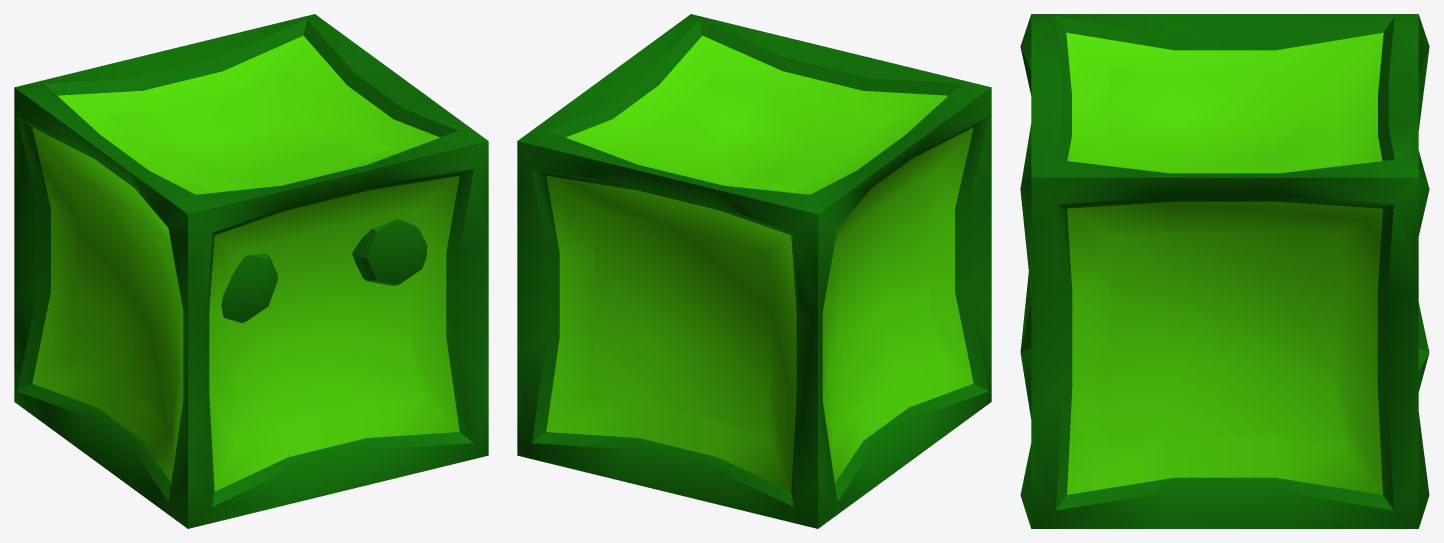
Rendered from enemy slime.fbx.
3 renders of one model, left to right at view 1: azimuth 30°, elevation 25°; view 2: azimuth 150°, elevation 25°; view 3: azimuth 270°, elevation 25°, orthographic. The views are drawn at different scales.
Parts seen in each view (by area): view 1: Cube.030; view 2: Cube.030; view 3: Cube.030.
Part boxes in pixels (<box>): Cube.030: <box>14,14,488,528</box>; Cube.030: <box>517,14,991,528</box>; Cube.030: <box>1020,14,1429,528</box>.
Size of the model in its own units: 113 by 109 by 113.
